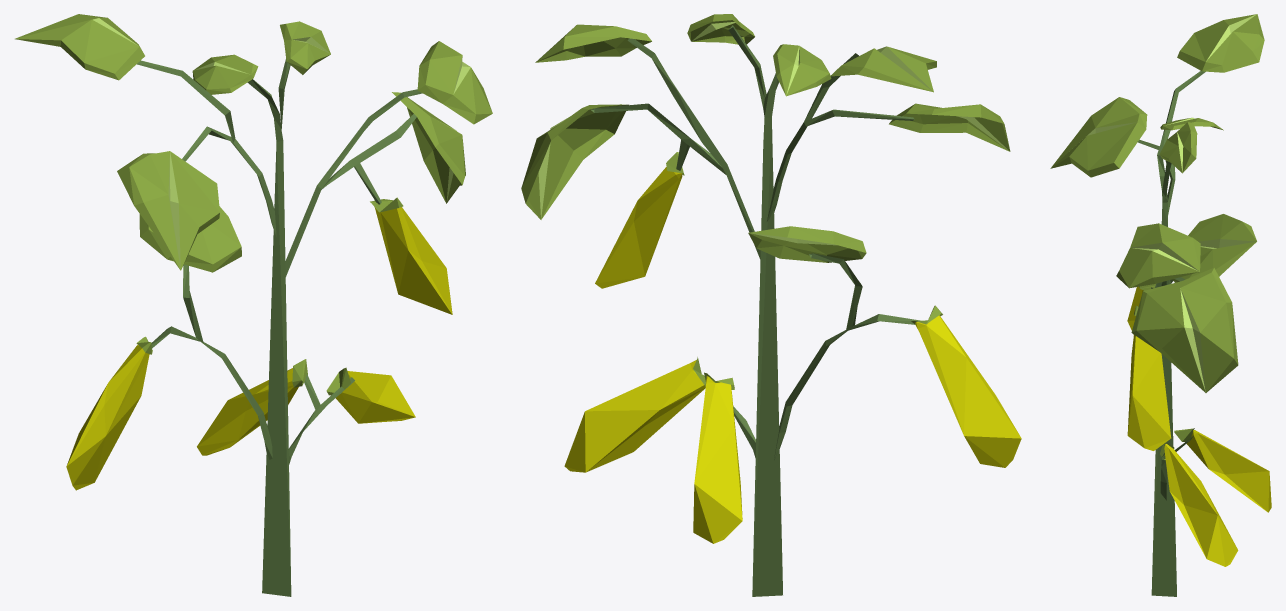
The model's file is Beans_3.fbx.
The picture shows the model from 3 angles, left to right: view 1: azimuth 30°, elevation 25°; view 2: azimuth 150°, elevation 25°; view 3: azimuth 270°, elevation 25°; orthographic projection. The views are drawn at different scales.
Visible parts, largest first — view 1: Beans_4; view 2: Beans_4; view 3: Beans_4.
Boxes of the visible parts, <box> form: Beans_4: <box>15,14,492,596</box>; Beans_4: <box>521,14,1021,596</box>; Beans_4: <box>1050,14,1271,596</box>.
Size of the model in its own units: 155 by 202 by 80.22.
